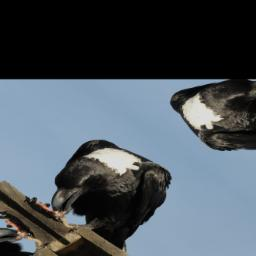Crow: (3, 125, 218, 256)
